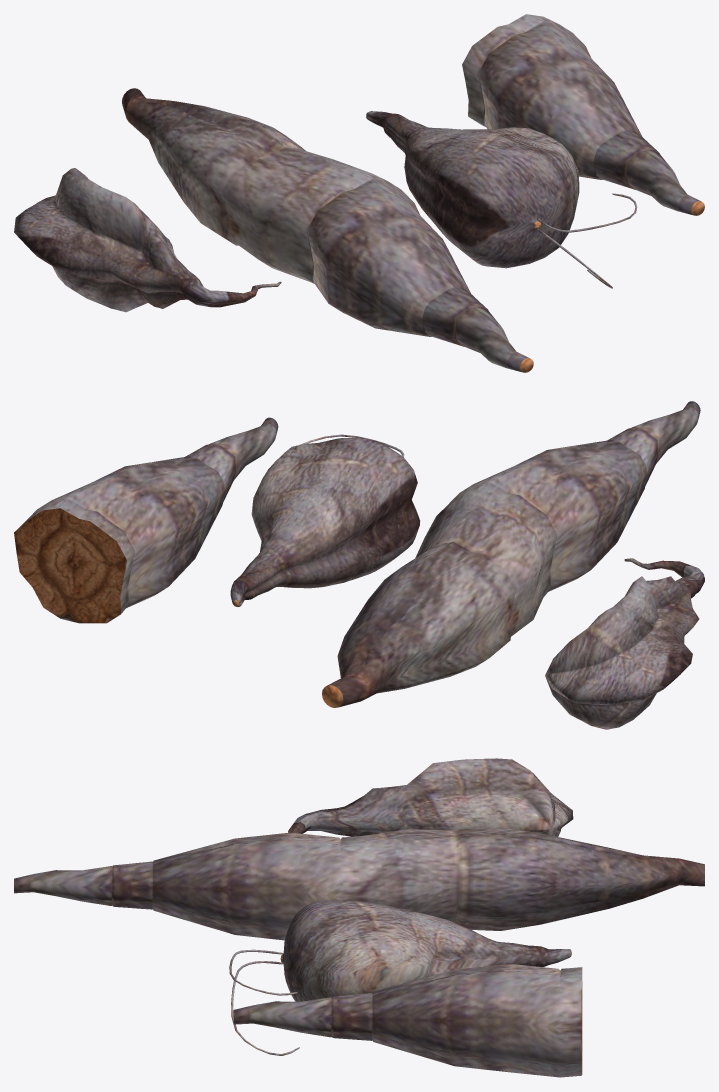
The model's file is heshouwu.FBX.
3 views of the same model, one above another, from view 1: azimuth 30°, elevation 25°; view 2: azimuth 150°, elevation 25°; view 3: azimuth 270°, elevation 25° (orthographic). The views are drawn at different scales.
Visible parts, largest first — view 1: Cylinder001, Cylinder004, Cylinder002, Cylinder003; view 2: Cylinder001, Cylinder004, Cylinder002, Cylinder003; view 3: Cylinder001, Cylinder004, Cylinder002, Cylinder003.
Boxes of the visible parts, bbox=[...] form: Cylinder001: bbox=[122, 88, 533, 372]; Cylinder004: bbox=[462, 14, 704, 215]; Cylinder002: bbox=[366, 111, 579, 268]; Cylinder003: bbox=[14, 168, 281, 312]; Cylinder001: bbox=[322, 401, 700, 707]; Cylinder004: bbox=[14, 417, 278, 623]; Cylinder002: bbox=[230, 438, 420, 606]; Cylinder003: bbox=[545, 558, 704, 729]; Cylinder001: bbox=[14, 827, 704, 940]; Cylinder004: bbox=[233, 964, 582, 1077]; Cylinder002: bbox=[280, 900, 571, 1001]; Cylinder003: bbox=[288, 758, 573, 836].
Size of the model in its own units: 254 by 52.84 by 276.
1 material, 1 textured.
